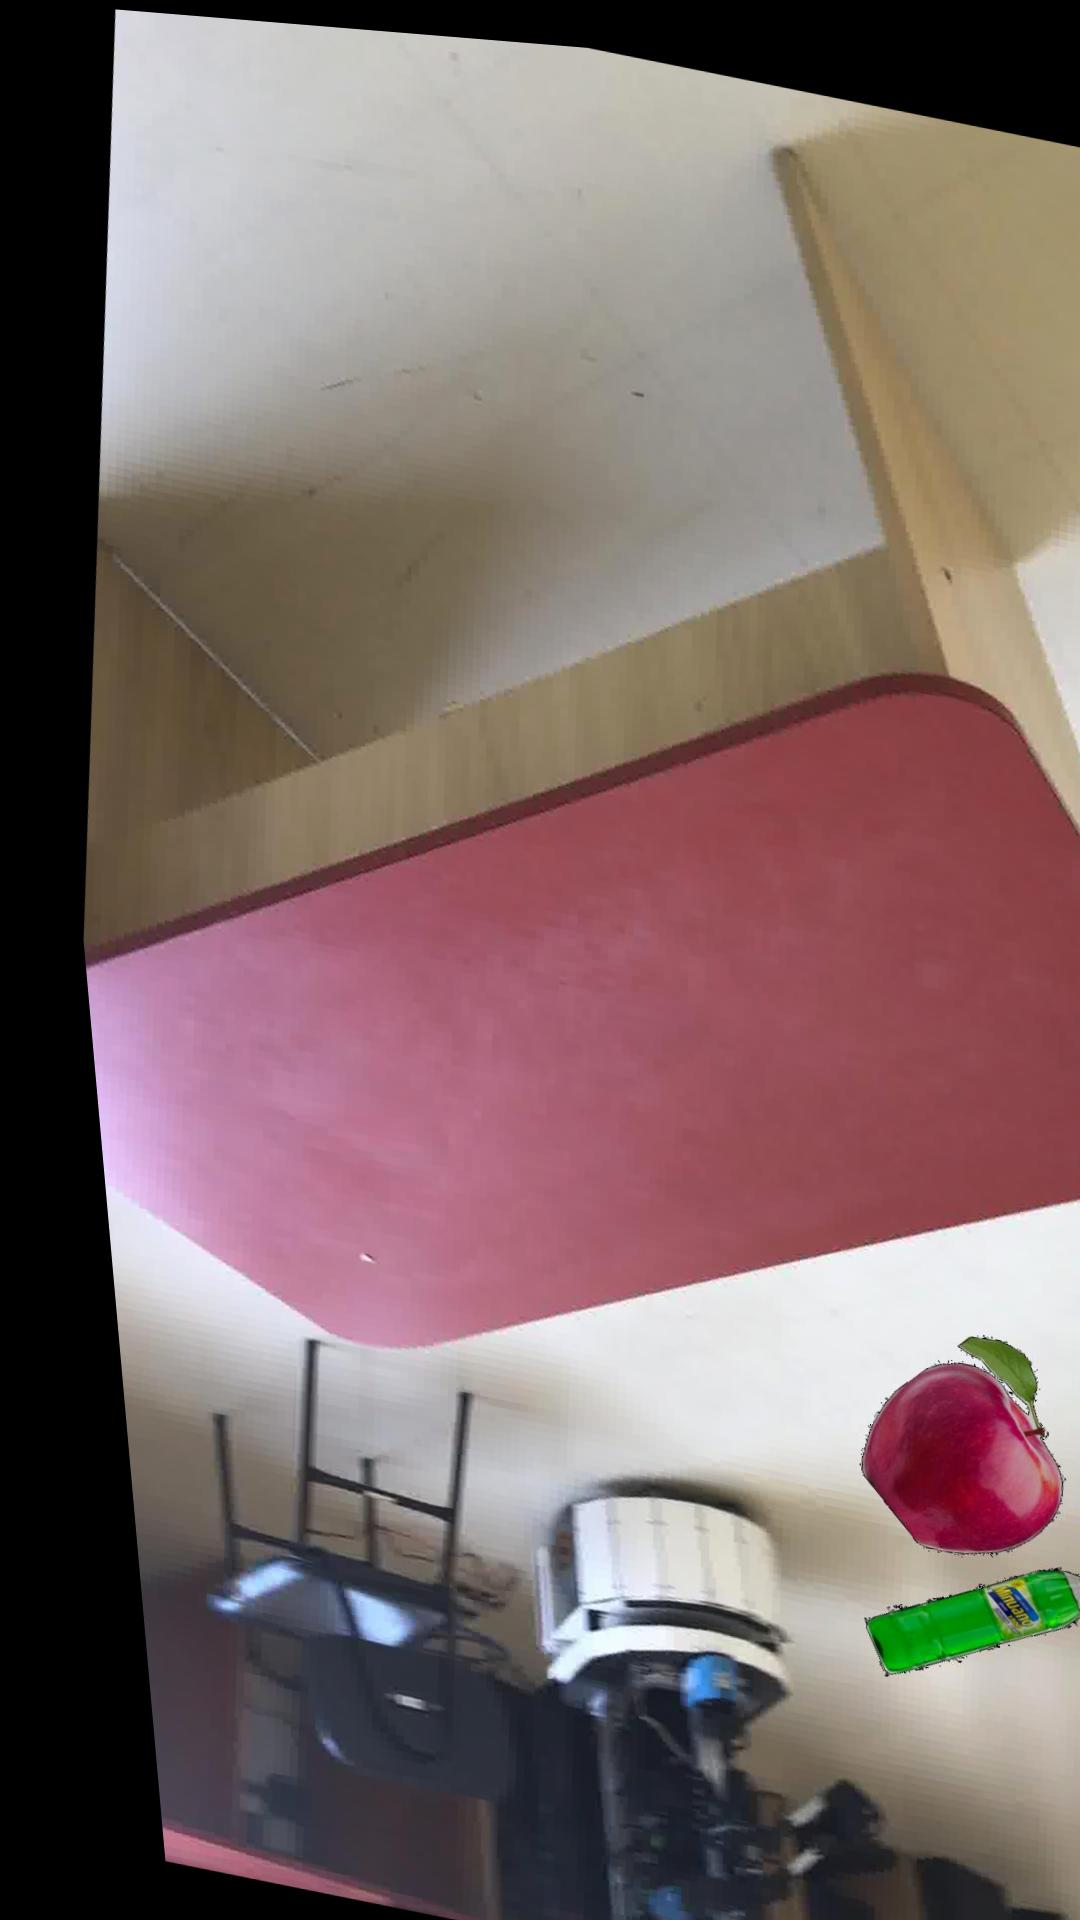apple: (832, 1321, 1034, 1540)
cleaner: (833, 1551, 1080, 1663)
